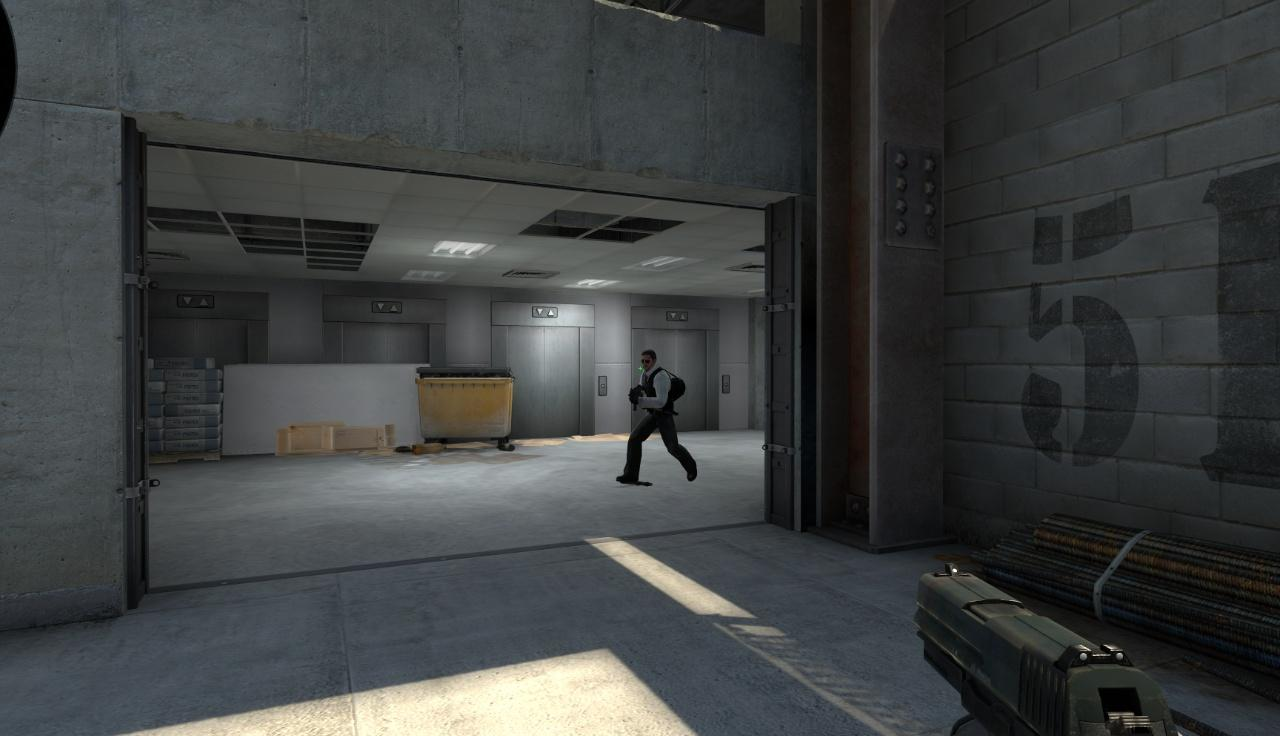pistol: (911, 561, 1171, 736)
tt: (627, 351, 679, 491)
tthead: (640, 351, 657, 370)
